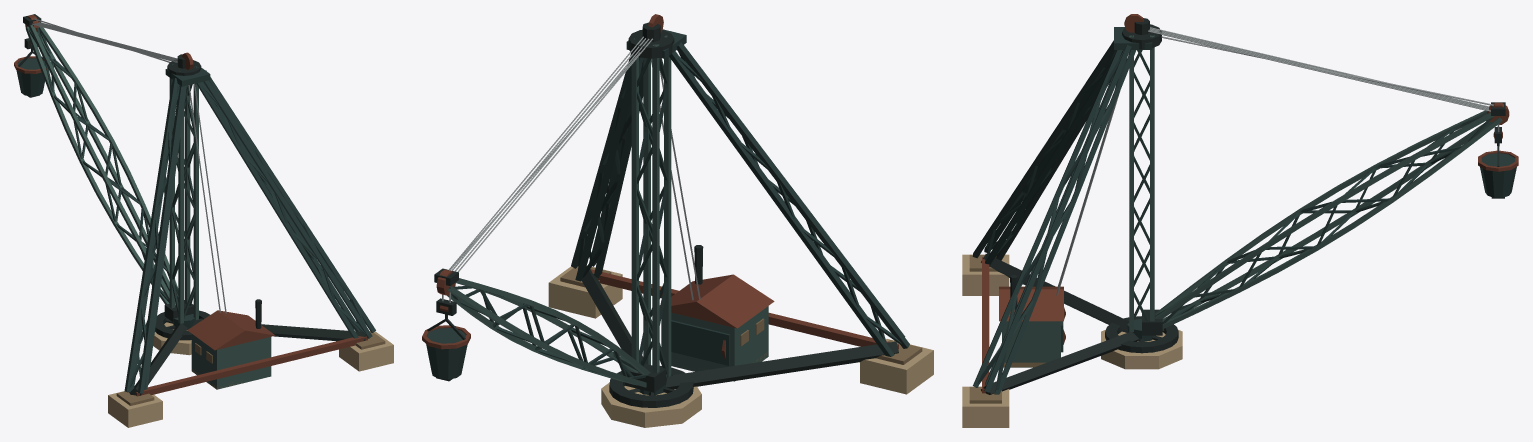
Rendered from works_derrick.glb.
3 renders of one model, left to right at view 1: azimuth 30°, elevation 25°; view 2: azimuth 150°, elevation 25°; view 3: azimuth 270°, elevation 25°, orthographic. The views are drawn at different scales.
Visible parts, largest first — view 1: Base, SlewFrame, Bucket; view 2: Base, SlewFrame, Bucket; view 3: Base, SlewFrame, Bucket.
Part boxes in pixels (x1,y1,x2,y2): Base: [108, 59, 393, 427]; SlewFrame: [23, 14, 209, 340]; Bucket: [14, 38, 46, 97]; Base: [548, 29, 933, 427]; SlewFrame: [434, 14, 693, 407]; Bucket: [422, 298, 470, 381]; Base: [962, 24, 1182, 427]; SlewFrame: [1105, 14, 1509, 353]; Bucket: [1478, 127, 1518, 198].
Bounding box in the file's own units: 24.41 × 25.27 × 37.8.
